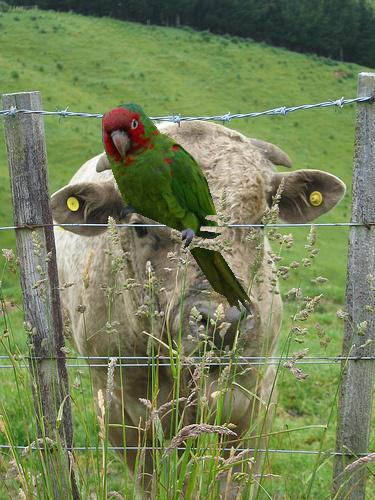tampered: (103, 103, 253, 316)
